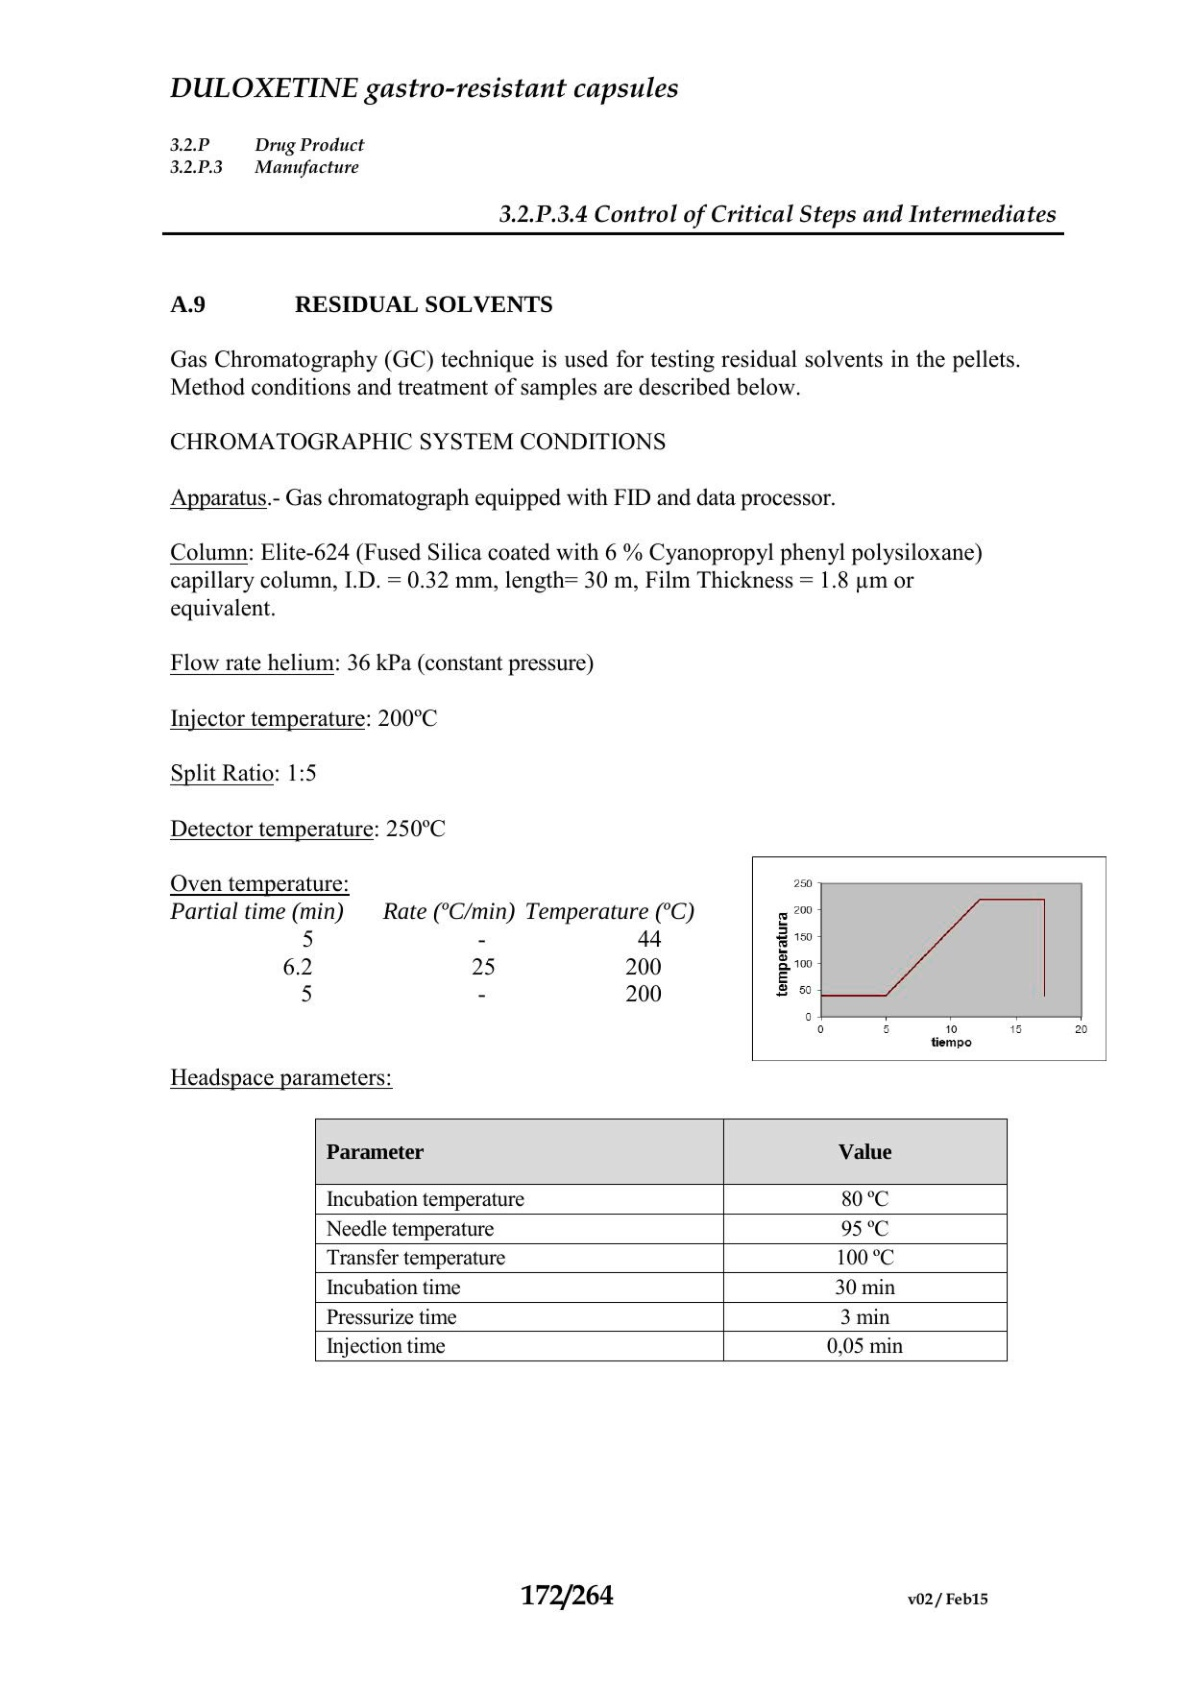full_lined: (303, 1113, 1011, 1377)
